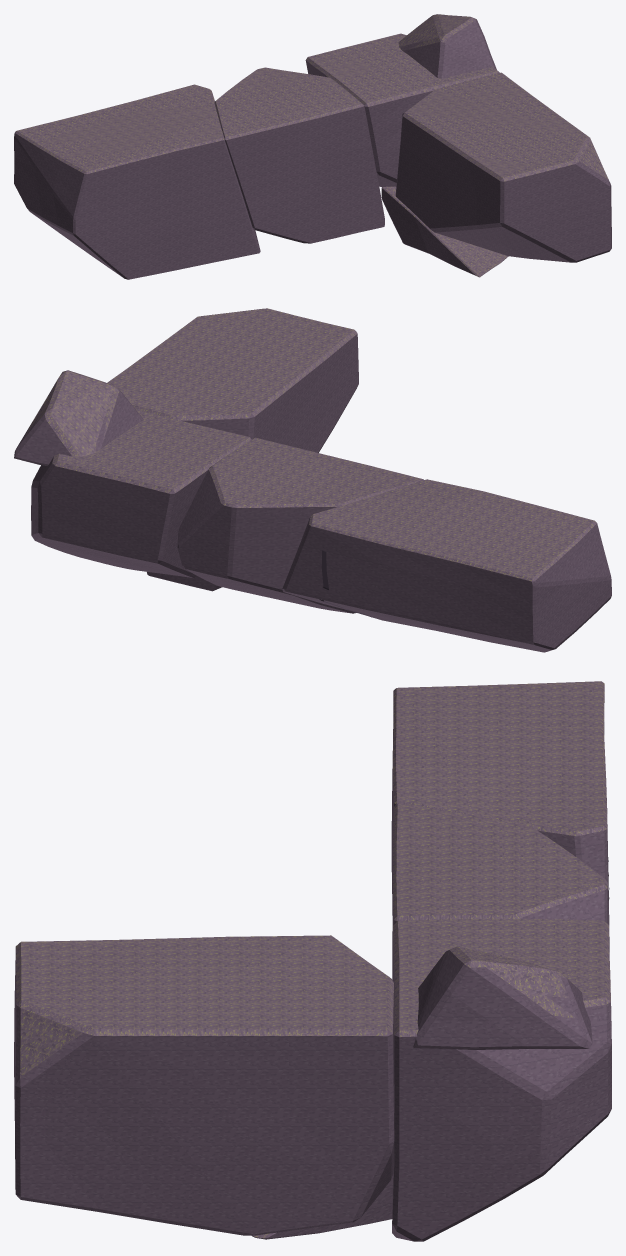
Rendered from A02_Ledge_rim.fbx.
3 views of the same model, one above another, from view 1: azimuth 30°, elevation 25°; view 2: azimuth 150°, elevation 25°; view 3: azimuth 270°, elevation 25° (orthographic). The views are drawn at different scales.
Visible parts, largest first — view 1: A02_arm_0, A02_corner_1, A02_arm_1, A02_arm_2, A02_hump, A02_corner_0; view 2: A02_arm_0, A02_corner_1, A02_arm_2, A02_arm_1, A02_hump, A02_corner_0; view 3: A02_corner_1, A02_arm_2, A02_arm_0, A02_arm_1, A02_hump, A02_corner_0.
Boxes of the visible parts, x1,y1,x2,y2 form: A02_arm_0: (14, 84, 260, 279); A02_corner_1: (395, 72, 611, 262); A02_arm_1: (214, 67, 384, 243); A02_arm_2: (305, 33, 499, 186); A02_hump: (398, 14, 496, 78); A02_corner_0: (381, 186, 508, 277); A02_arm_0: (282, 479, 611, 652); A02_corner_1: (107, 308, 358, 452); A02_arm_2: (31, 410, 251, 577); A02_arm_1: (177, 437, 423, 613); A02_hump: (14, 370, 143, 465); A02_corner_0: (147, 572, 222, 591); A02_corner_1: (14, 935, 394, 1235); A02_arm_2: (392, 918, 611, 1241); A02_arm_0: (391, 681, 609, 924); A02_arm_1: (392, 803, 608, 972); A02_hump: (413, 946, 592, 1049); A02_corner_0: (252, 1174, 393, 1239).
Bounding box in the file's own units: 10.13 × 3.88 × 7.12.
